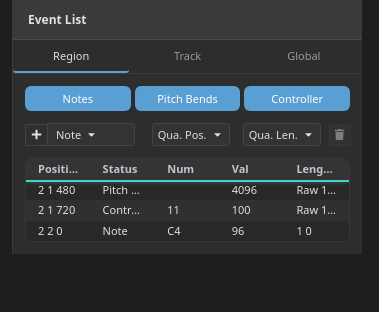
it: EventListPanel › switches to Track tab and lists selected track regions
Click the button "Track": (187, 56) [129,40,246,73]
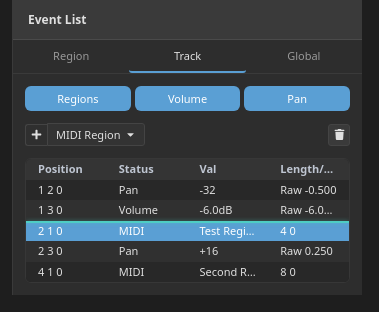
Expected: the button "Regions" is shown, [25,86,131,111]
Expected: the text "Second Region" is shown, [188,262,268,282]
Expected: the text "MIDI" is shown 2 times, [107,220,188,241]; [107,262,188,282]
